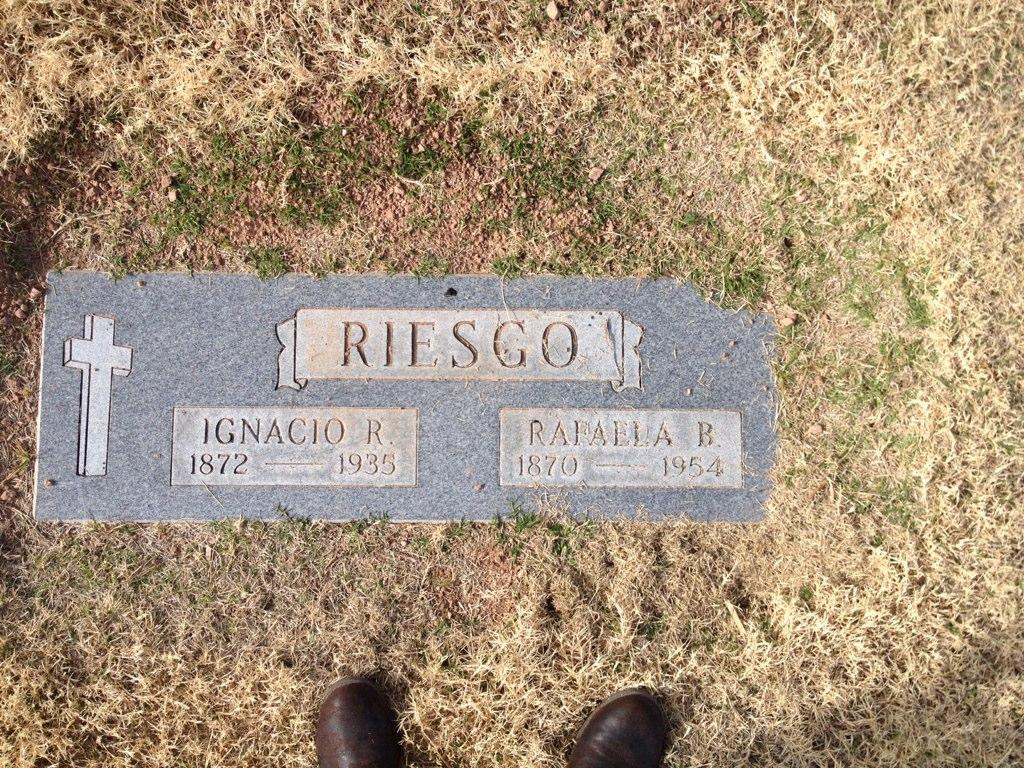flat: (30, 255, 780, 544)
